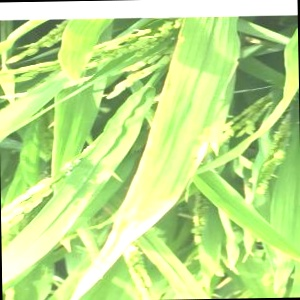Leaf_Blast: (144, 79, 209, 228)
